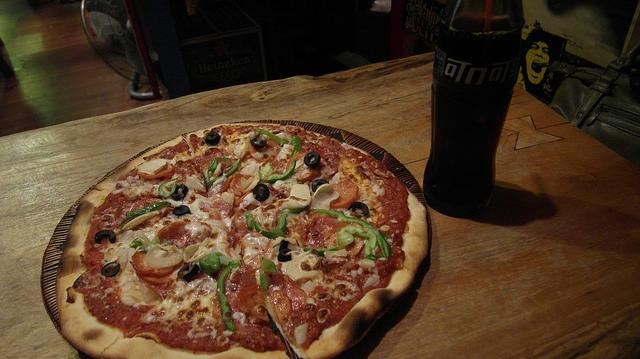bell pepper: (309, 209, 392, 257), (216, 263, 242, 331), (254, 207, 306, 239), (116, 202, 172, 230), (337, 225, 378, 258), (259, 159, 297, 183), (253, 128, 288, 146), (260, 256, 278, 291), (208, 157, 232, 181), (158, 176, 182, 198), (198, 252, 220, 274), (303, 246, 341, 256), (288, 136, 301, 160), (244, 210, 253, 230), (129, 238, 145, 249)
